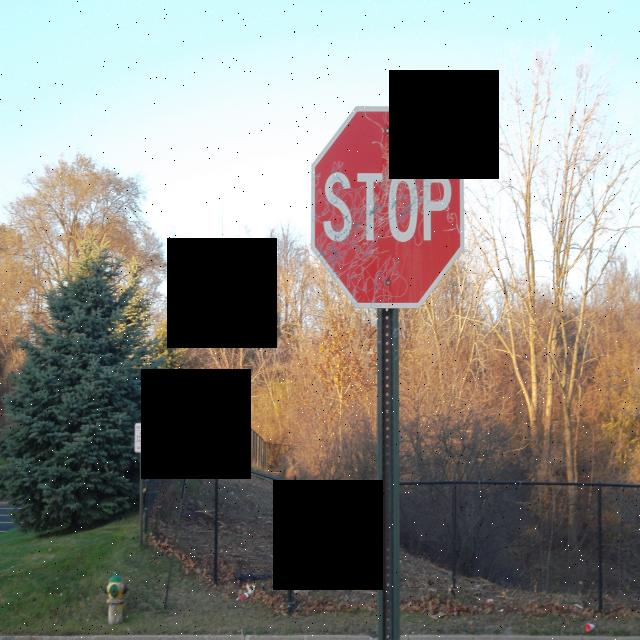regulatory: (134, 422, 147, 453)
stop: (306, 100, 468, 314)
